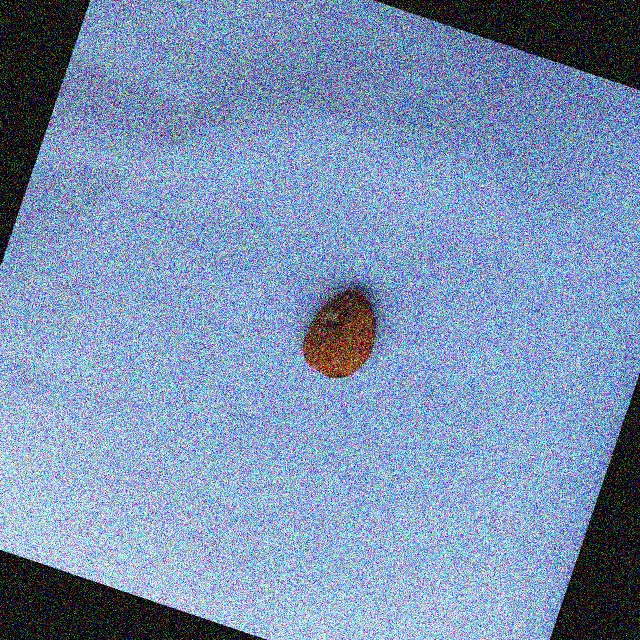grade3: (289, 275, 392, 392)
